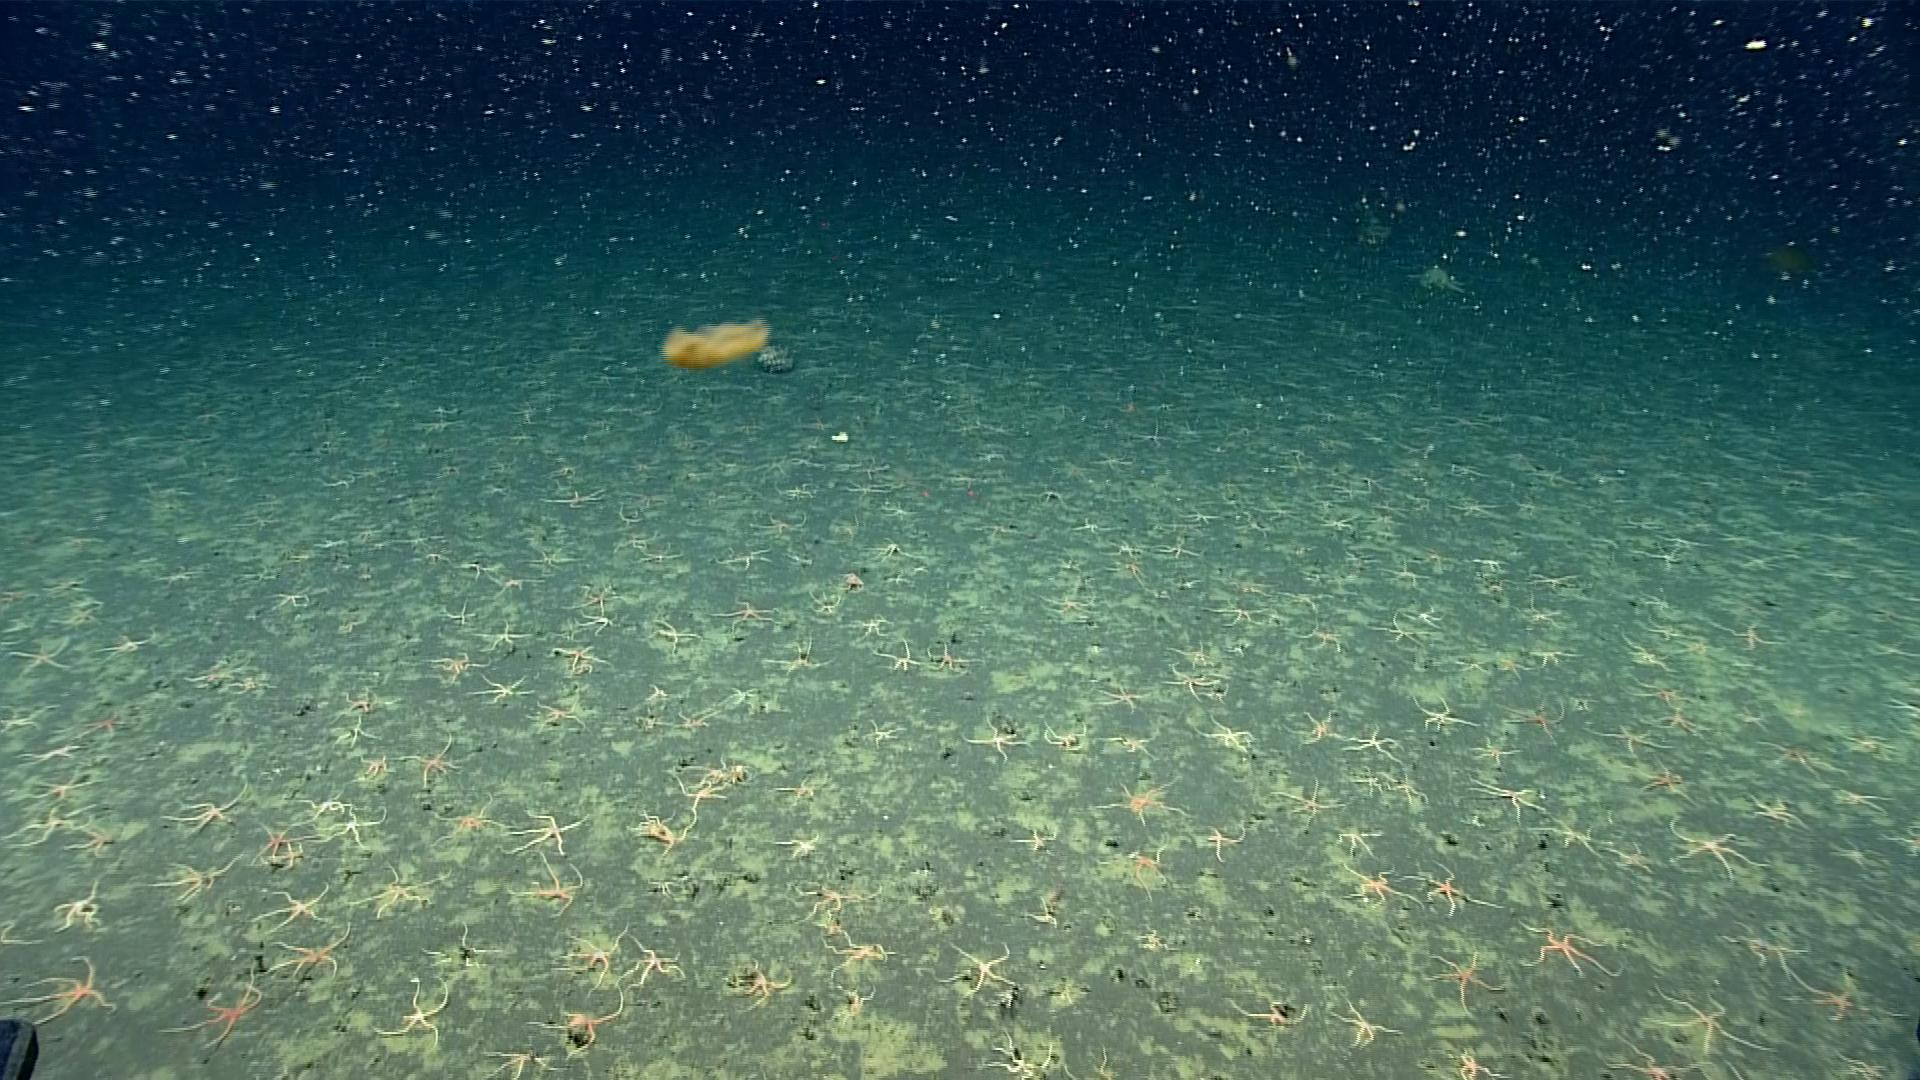brittle_sea_star: (1644, 982, 1767, 1056), (157, 964, 261, 1047), (1, 955, 120, 1027), (1663, 819, 1766, 878), (1519, 920, 1617, 981), (1779, 968, 1886, 1022), (1406, 860, 1499, 920), (551, 924, 628, 994), (376, 975, 448, 1047), (527, 1002, 617, 1058), (150, 851, 243, 903), (1425, 951, 1503, 1013), (935, 940, 1018, 998), (352, 868, 443, 919), (0, 800, 94, 849), (502, 808, 591, 860), (426, 793, 501, 847), (1726, 927, 1811, 975), (1327, 996, 1399, 1050), (268, 931, 347, 980), (1097, 779, 1185, 823), (1466, 775, 1547, 823), (517, 861, 587, 915), (663, 771, 727, 831), (1340, 864, 1416, 913), (392, 737, 467, 785), (1760, 736, 1840, 781), (419, 923, 496, 969), (816, 930, 894, 975), (620, 940, 686, 993), (790, 881, 877, 920), (1122, 839, 1180, 898), (1540, 815, 1614, 861), (160, 793, 244, 832), (728, 963, 793, 1011), (964, 715, 1029, 764), (255, 885, 328, 927), (1271, 777, 1340, 822), (1605, 1042, 1688, 1079), (13, 766, 102, 800), (315, 810, 389, 849), (5, 633, 74, 675), (984, 1029, 1042, 1076), (1373, 607, 1432, 651), (1226, 997, 1307, 1030), (53, 878, 108, 926), (1589, 723, 1672, 754), (479, 1043, 551, 1079), (632, 806, 686, 853), (1410, 695, 1474, 735), (1056, 1038, 1117, 1079), (1280, 711, 1348, 746), (1631, 762, 1688, 804), (473, 618, 539, 654), (715, 596, 778, 632), (469, 674, 537, 707), (1164, 663, 1216, 704), (427, 650, 491, 683), (766, 640, 827, 674), (247, 824, 298, 864), (1509, 705, 1567, 740), (644, 618, 699, 651), (1200, 717, 1255, 750), (1171, 633, 1226, 666), (534, 699, 587, 733), (1829, 789, 1894, 816), (1197, 824, 1247, 860), (876, 638, 920, 675), (1638, 676, 1688, 709), (1333, 824, 1385, 856), (690, 758, 750, 785), (1345, 727, 1398, 757), (551, 644, 608, 671), (1007, 827, 1062, 856), (1035, 591, 1095, 617), (572, 604, 624, 634), (1204, 600, 1266, 625), (1749, 795, 1797, 827), (922, 641, 973, 670), (1100, 682, 1149, 712), (95, 632, 148, 659), (1607, 841, 1654, 873), (182, 659, 235, 687), (773, 835, 823, 864), (1304, 621, 1346, 655), (1375, 559, 1427, 587), (1098, 559, 1150, 587), (330, 716, 378, 745), (70, 827, 123, 853), (1727, 621, 1775, 650), (18, 742, 83, 764), (1846, 729, 1892, 758), (1830, 840, 1879, 866), (1106, 538, 1153, 566), (302, 790, 352, 815), (1391, 773, 1431, 804), (1469, 738, 1522, 762), (860, 719, 902, 748), (1042, 724, 1084, 753), (533, 489, 599, 508), (1100, 731, 1154, 753), (720, 545, 764, 571), (1837, 1054, 1888, 1075), (332, 691, 382, 712), (1449, 1050, 1489, 1076), (0, 920, 34, 951), (836, 985, 870, 1015), (1519, 603, 1565, 625), (869, 537, 907, 563), (675, 709, 720, 732), (1026, 897, 1058, 928), (1407, 601, 1443, 629), (487, 576, 539, 595), (749, 516, 806, 533), (1158, 537, 1197, 560), (781, 779, 824, 800), (835, 570, 870, 595), (1663, 716, 1702, 738), (1179, 504, 1218, 526), (360, 754, 393, 781), (849, 612, 890, 633), (1494, 655, 1530, 679), (268, 588, 307, 609), (1354, 770, 1386, 796), (233, 671, 270, 694), (1531, 647, 1578, 665), (80, 715, 119, 736), (1534, 570, 1577, 588), (810, 589, 840, 616), (152, 567, 198, 584), (1735, 704, 1768, 727), (582, 589, 615, 612), (1646, 547, 1685, 566), (1875, 640, 1911, 659), (872, 504, 913, 521), (1315, 516, 1357, 531), (645, 682, 673, 704), (451, 562, 497, 575), (1899, 825, 1919, 856), (446, 608, 473, 625), (636, 713, 661, 732), (616, 535, 647, 547), (1076, 514, 1097, 531)
